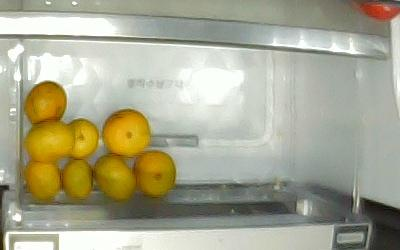tangerine: (102, 109, 151, 156), (92, 154, 135, 203), (133, 151, 176, 200), (25, 120, 73, 162), (25, 81, 67, 124), (25, 161, 61, 201), (61, 159, 92, 200), (68, 118, 98, 159)
